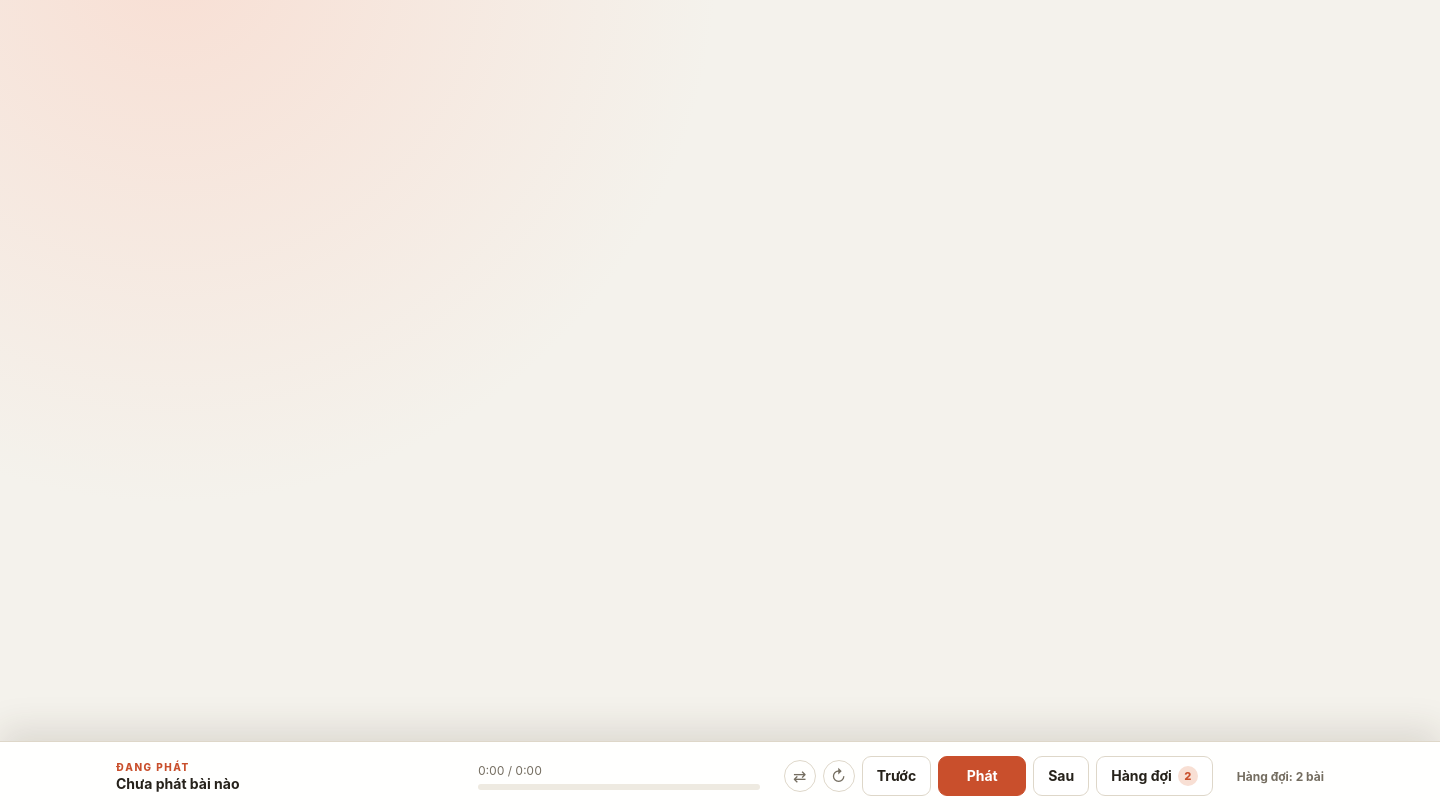
Scenario: PlayerBar › mở bảng hàng đợi và liệt kê các bài đã thêm
The width and height of the screenshot is (1440, 810).
Click the button with aria-label "Mở hàng đợi". click: (1155, 776)
box: x1=1096 y1=756 x2=1213 y2=796
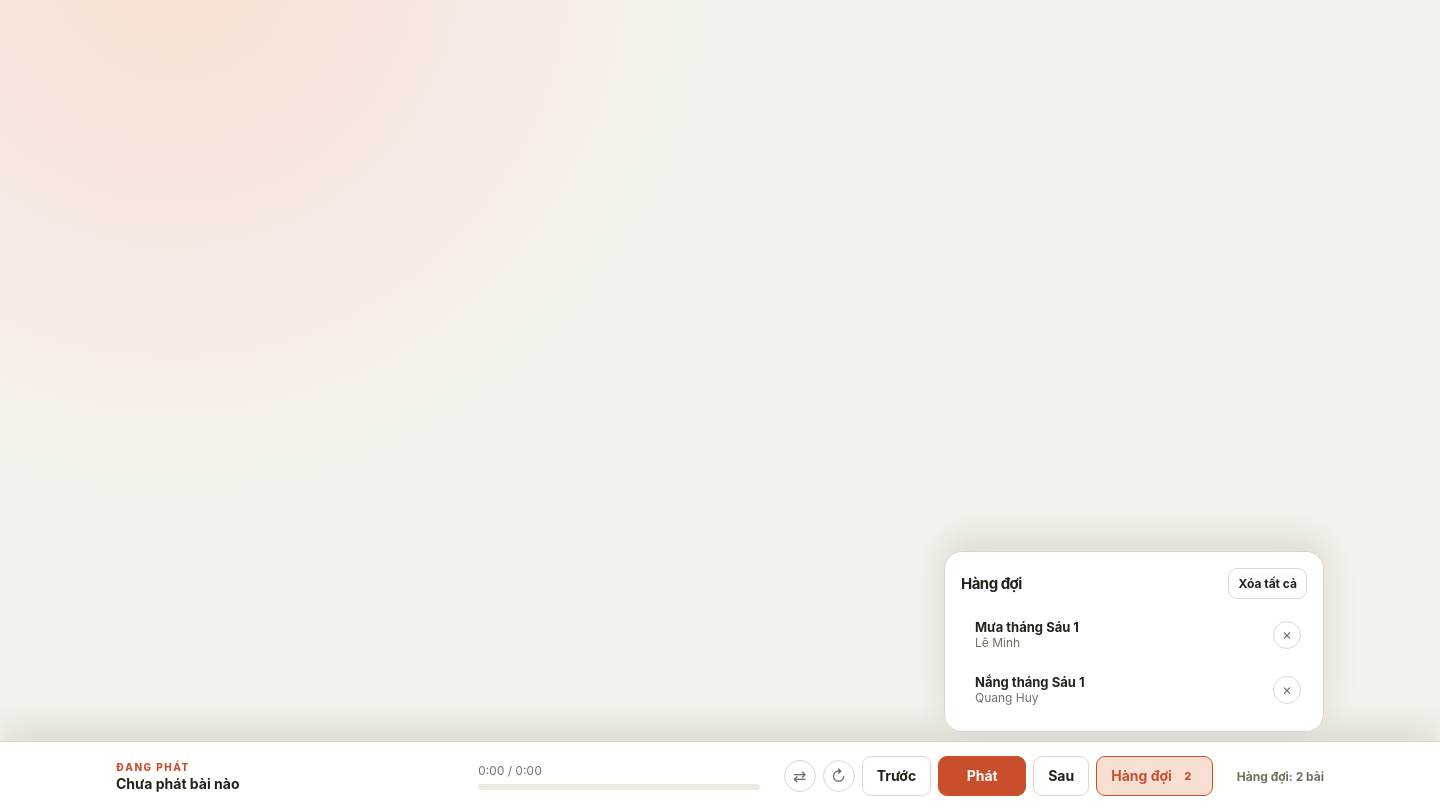
Expected: the text "Mưa tháng Sáu 1" is shown, x1=975 y1=619 x2=1079 y2=635
Expected: the text "Nắng tháng Sáu 1" is shown, x1=975 y1=674 x2=1084 y2=690
Expected: the button with aria-label "Mở hàng đợi" is expanded, x1=1096 y1=756 x2=1213 y2=796
